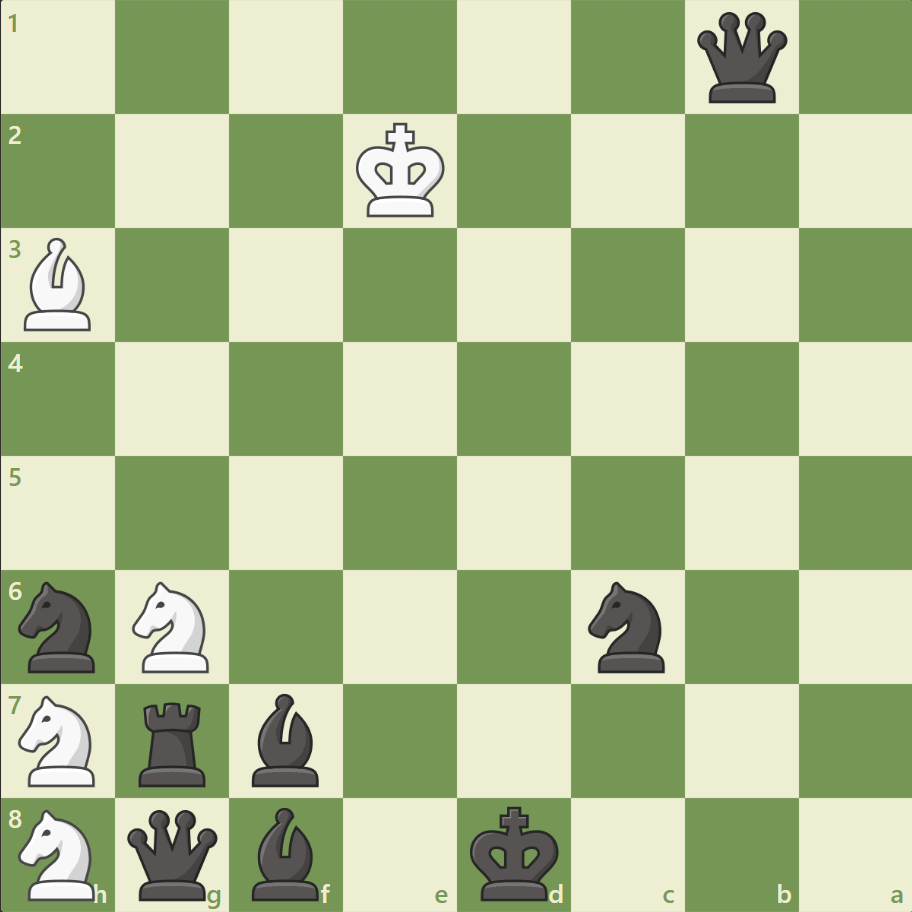B: (17, 233, 101, 336)
K: (351, 117, 451, 225)
N: (124, 575, 222, 677), (11, 688, 108, 791), (11, 802, 108, 904)
b: (244, 801, 328, 904), (244, 687, 328, 790)
k: (465, 798, 565, 906)
n: (579, 575, 676, 677), (11, 575, 108, 677)
q: (124, 804, 223, 903), (691, 9, 790, 108)
r: (133, 693, 215, 790)
